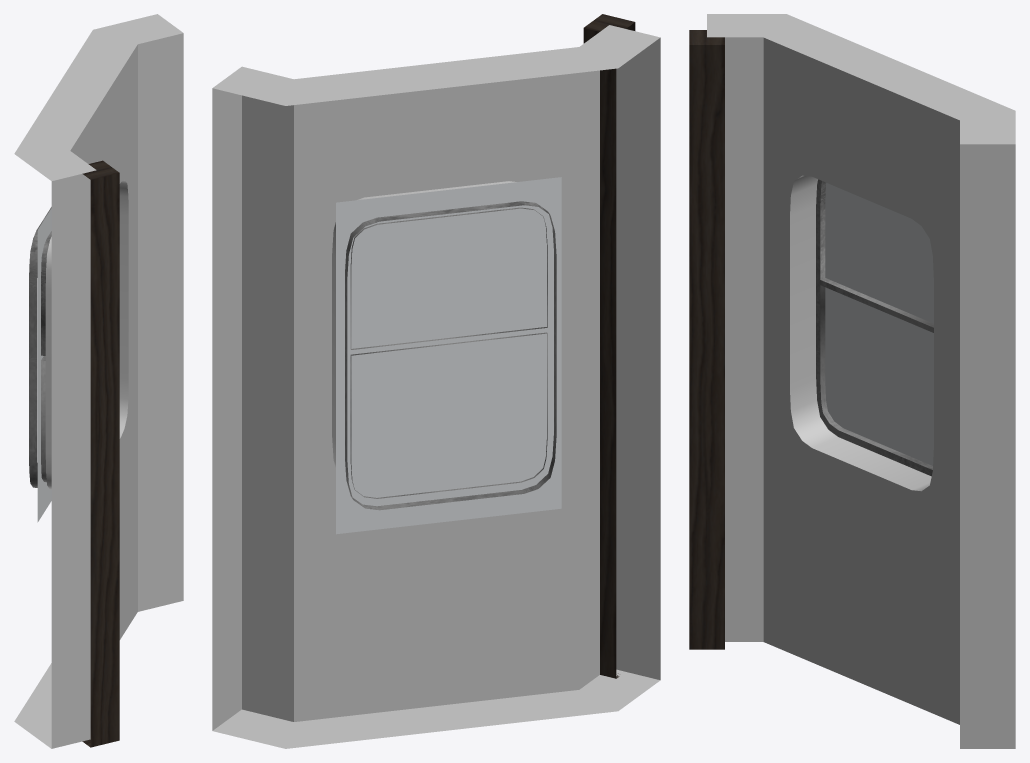
File: FerryModularWallCorner.fbx
3 renders of one model, left to right at view 1: azimuth 30°, elevation 25°; view 2: azimuth 150°, elevation 25°; view 3: azimuth 270°, elevation 25°, orthographic. The views are drawn at different scales.
Visible parts, largest first — view 1: Ferry Wall Corner, Window001; view 2: Ferry Wall Corner, Window001; view 3: Ferry Wall Corner, Window001.
Part boxes in pixels (x1=…): Ferry Wall Corner: x1=14, y1=14, x2=183, y2=748; Window001: x1=37, y1=208, x2=51, y2=522; Ferry Wall Corner: x1=212, y1=14, x2=660, y2=748; Window001: x1=336, y1=177, x2=561, y2=534; Ferry Wall Corner: x1=689, y1=14, x2=1015, y2=748; Window001: x1=825, y1=183, x2=933, y2=465.
Bounding box in the file's own units: 555 × 1200 × 587.
